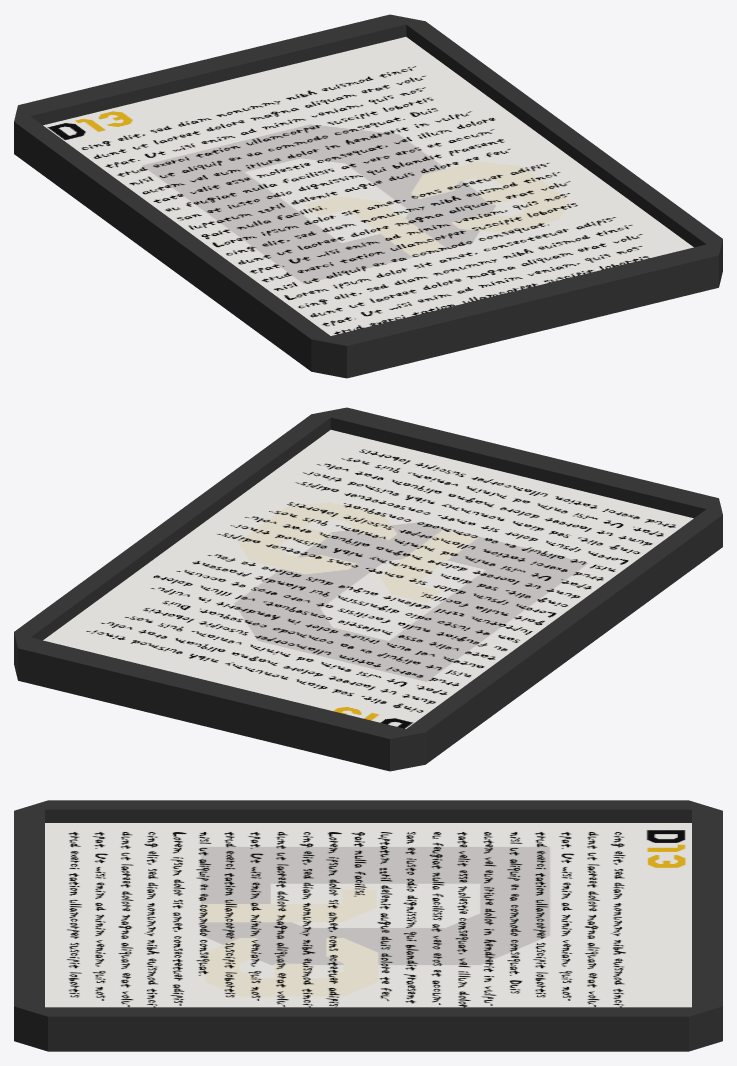
The model's file is Tablet.fbx.
3 views of the same model, one above another, from view 1: azimuth 30°, elevation 25°; view 2: azimuth 150°, elevation 25°; view 3: azimuth 270°, elevation 25° (orthographic). The views are drawn at different scales.
Parts seen in each view (by area): view 1: Tablet; view 2: Tablet; view 3: Tablet.
Boxes of the visible parts, x1=… form: Tablet: x1=14, y1=14, x2=722, y2=378; Tablet: x1=14, y1=407, x2=722, y2=771; Tablet: x1=14, y1=800, x2=722, y2=1051.
Size of the model in its own units: 22.1 by 1.66 by 30.6.
